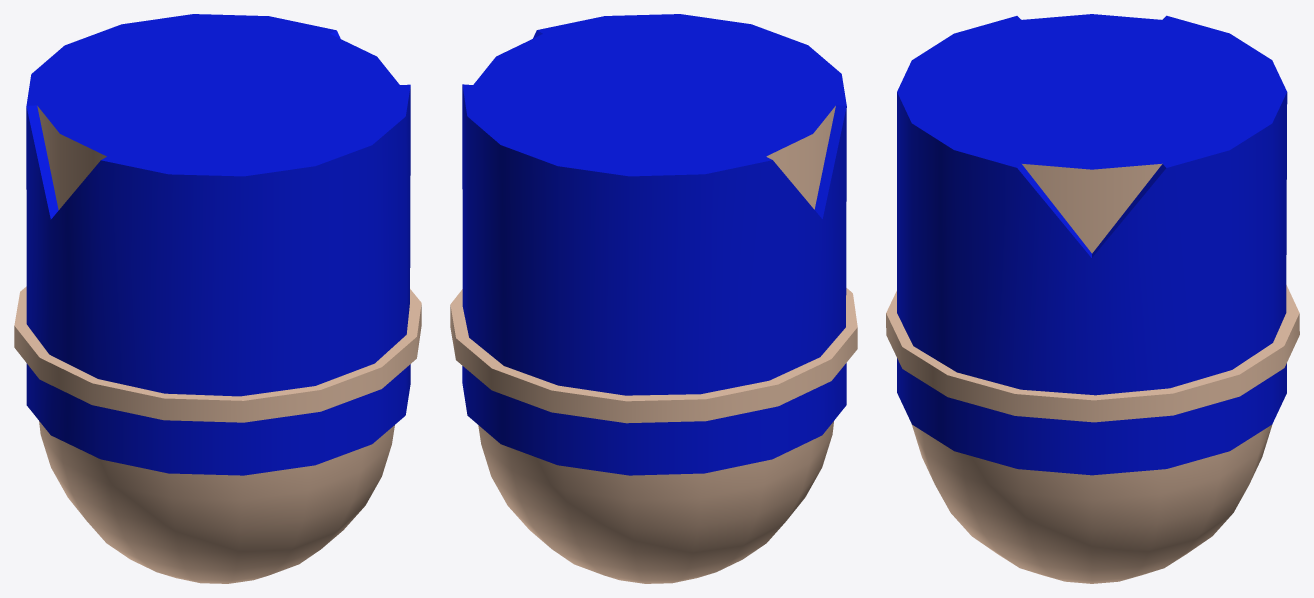
The model's file is Billy Body 2.fbx.
The picture shows the model from 3 angles, left to right: view 1: azimuth 30°, elevation 25°; view 2: azimuth 150°, elevation 25°; view 3: azimuth 270°, elevation 25°; orthographic projection.
Parts seen in each view (by area): view 1: Billy_Body; view 2: Billy_Body; view 3: Billy_Body.
Boxes of the visible parts, x1=… form: Billy_Body: x1=14, y1=14, x2=421, y2=583; Billy_Body: x1=450, y1=14, x2=857, y2=583; Billy_Body: x1=886, y1=14, x2=1299, y2=583.
Size of the model in its own units: 91.6 by 116 by 91.61.
